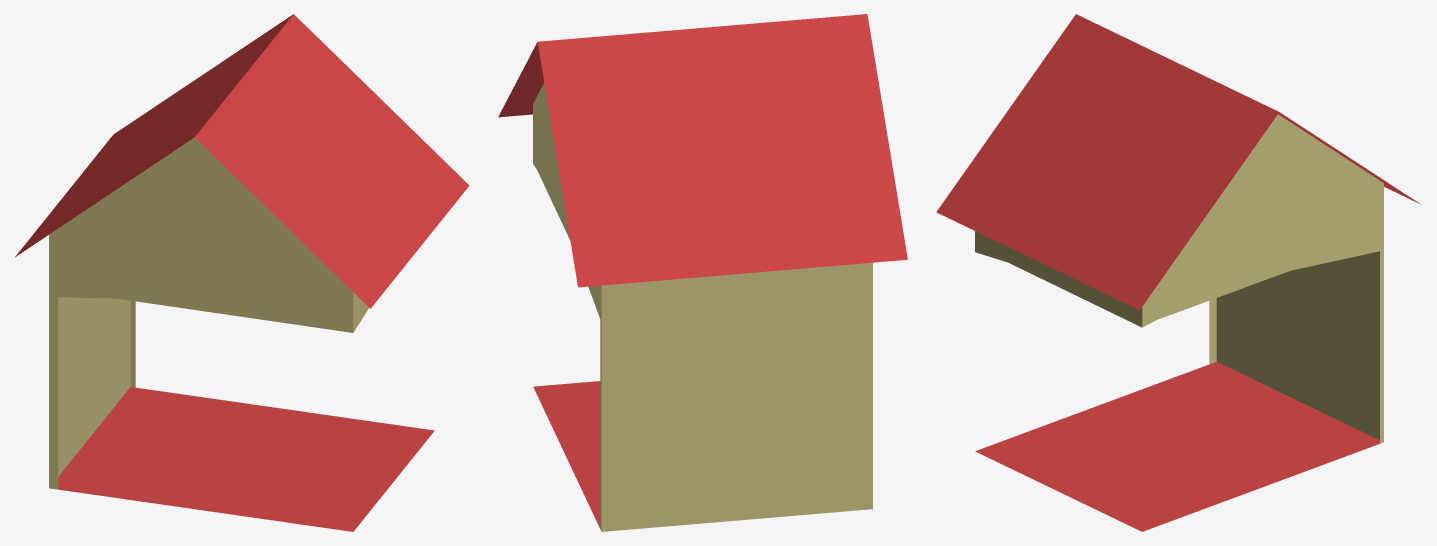
3 renders of one model, left to right at view 1: azimuth 30°, elevation 25°; view 2: azimuth 150°, elevation 25°; view 3: azimuth 270°, elevation 25°, orthographic. The views are drawn at different scales.
Size of the model in its own units: 13.15 by 13.32 by 11.61.
